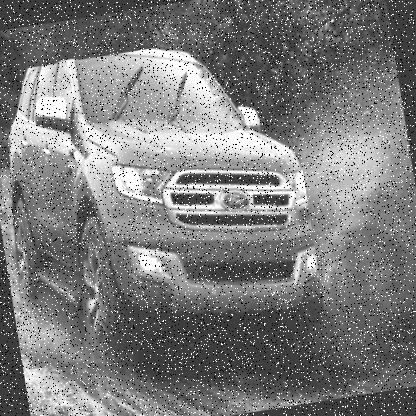Car: (0, 27, 328, 370)
